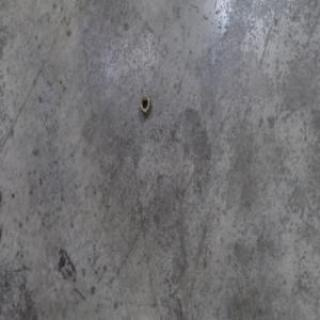Nuttrack_idkeyframe: (138, 93, 152, 116)
